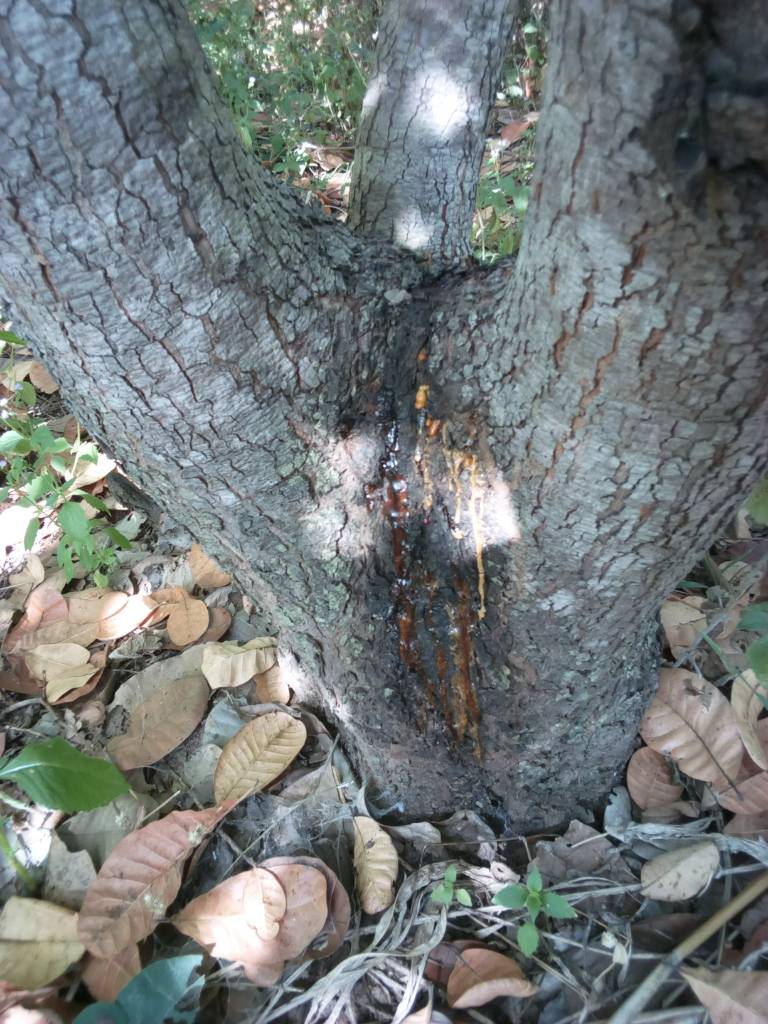Gommose: (343, 300, 499, 753)
